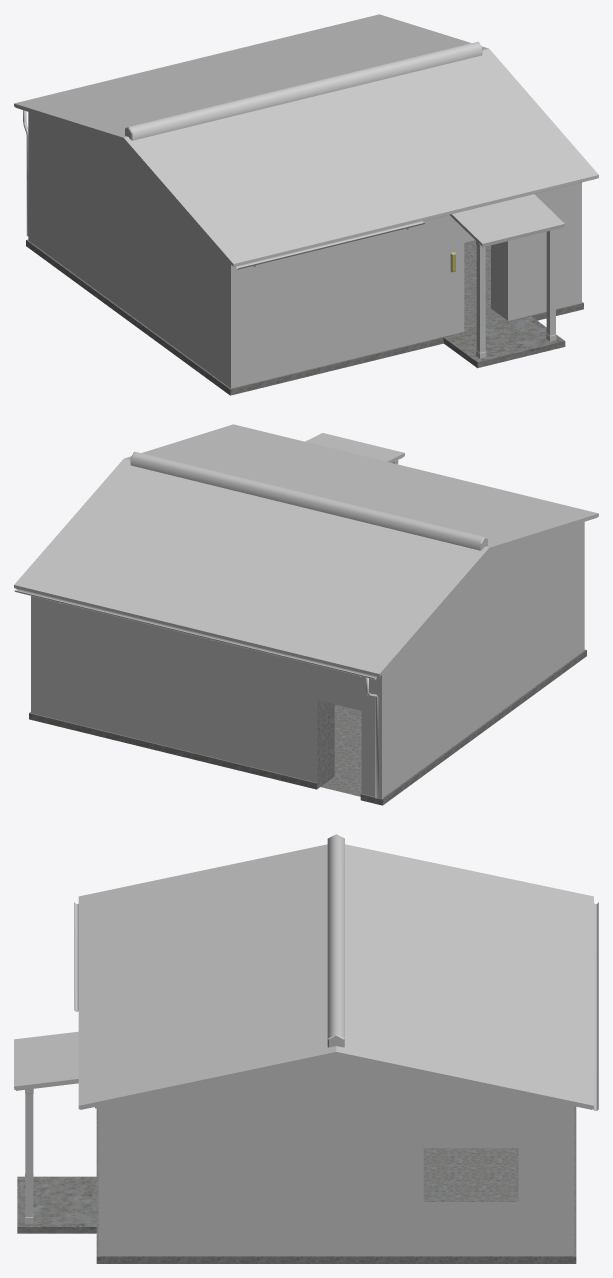
Rendered from JPBM11BBase.obj.
3 views of the same model, one above another, from view 1: azimuth 30°, elevation 25°; view 2: azimuth 150°, elevation 25°; view 3: azimuth 270°, elevation 25° (orthographic). The views are drawn at different scales.
Visible parts, largest first — view 1: JPBM11BBase; view 2: JPBM11BBase; view 3: JPBM11BBase.
Part boxes in pixels (left/top/right/bottom): JPBM11BBase: left=14, top=14, right=598, bottom=395; JPBM11BBase: left=14, top=424, right=598, bottom=805; JPBM11BBase: left=14, top=834, right=598, bottom=1263.
Size of the model in its own units: 12.5 by 6.34 by 14.76.
